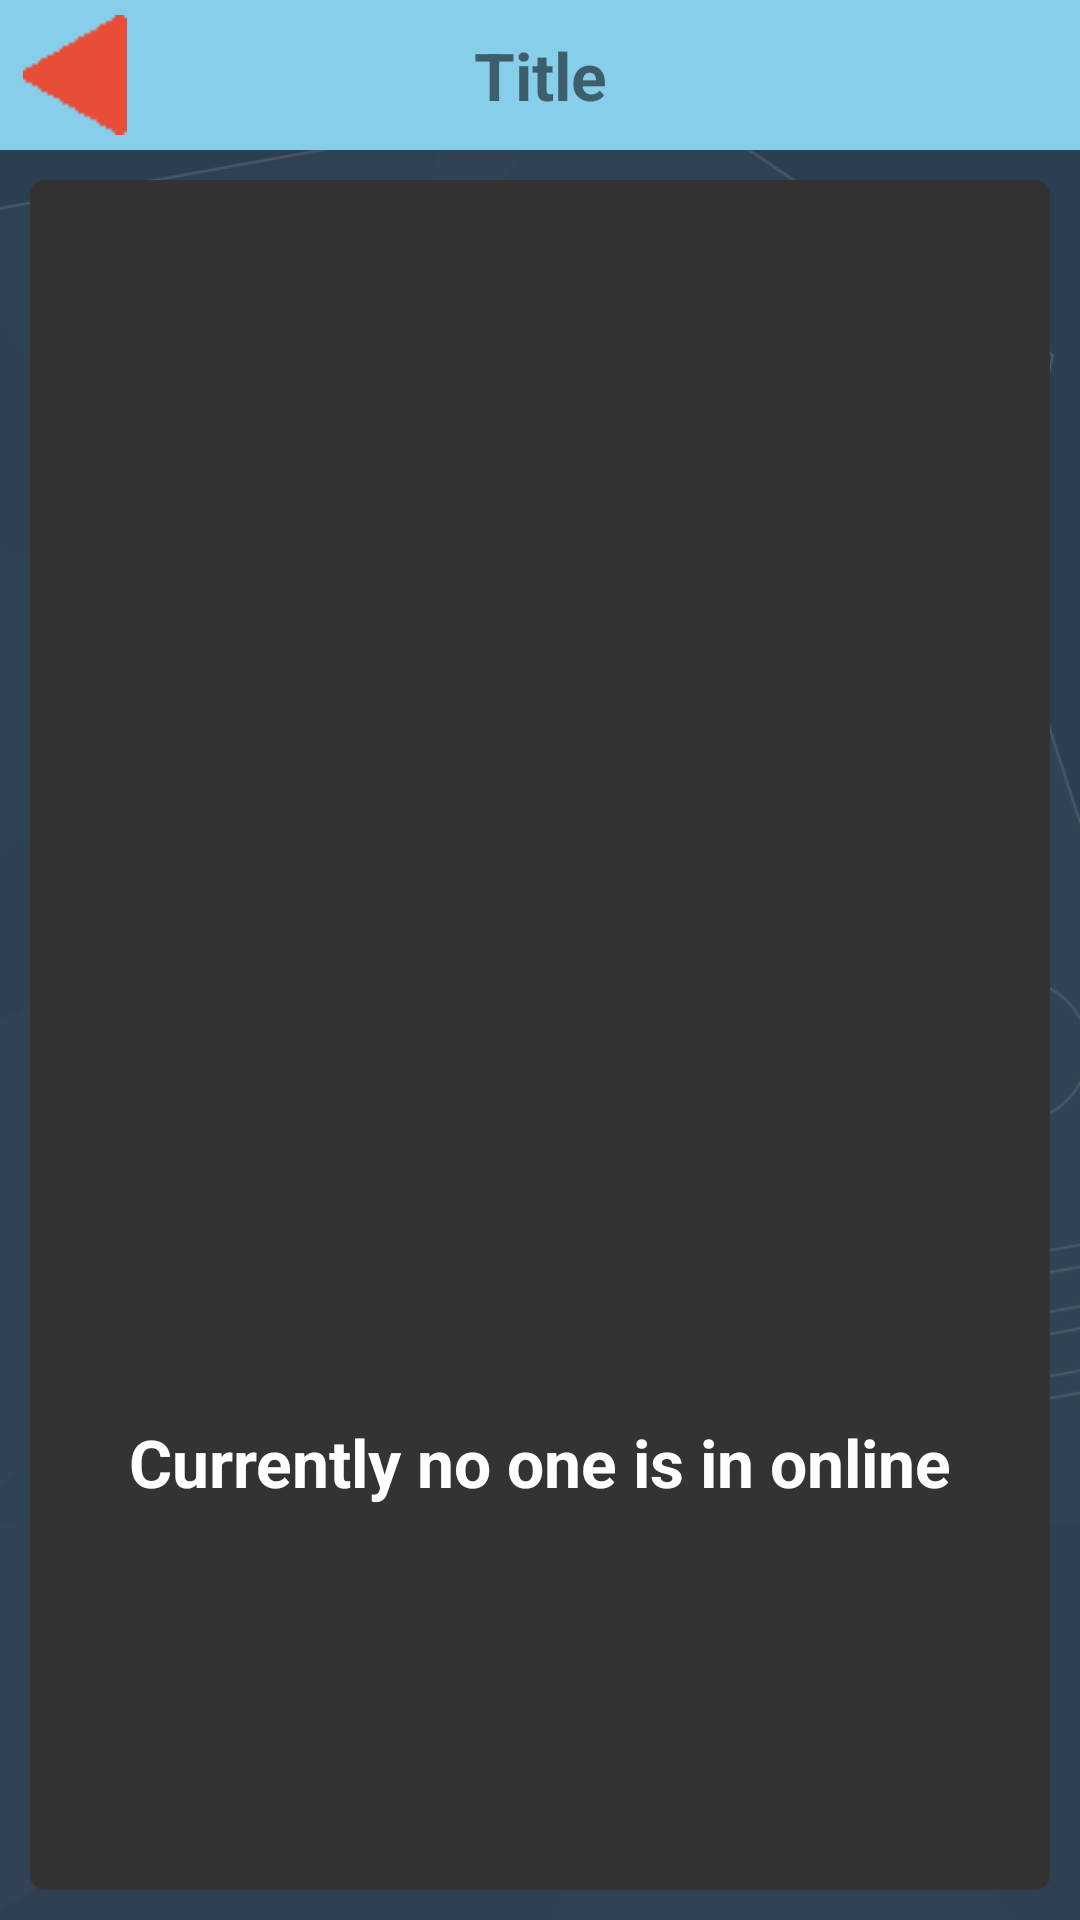

Named icons in this screenshot (1080 × 1920) and their bounding boxes, (x1, y1, x2, y2):
back: (23, 15, 127, 135)
